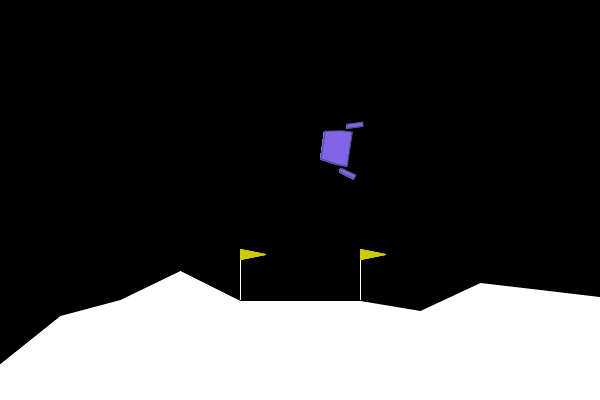lander: (316, 116, 365, 181)
